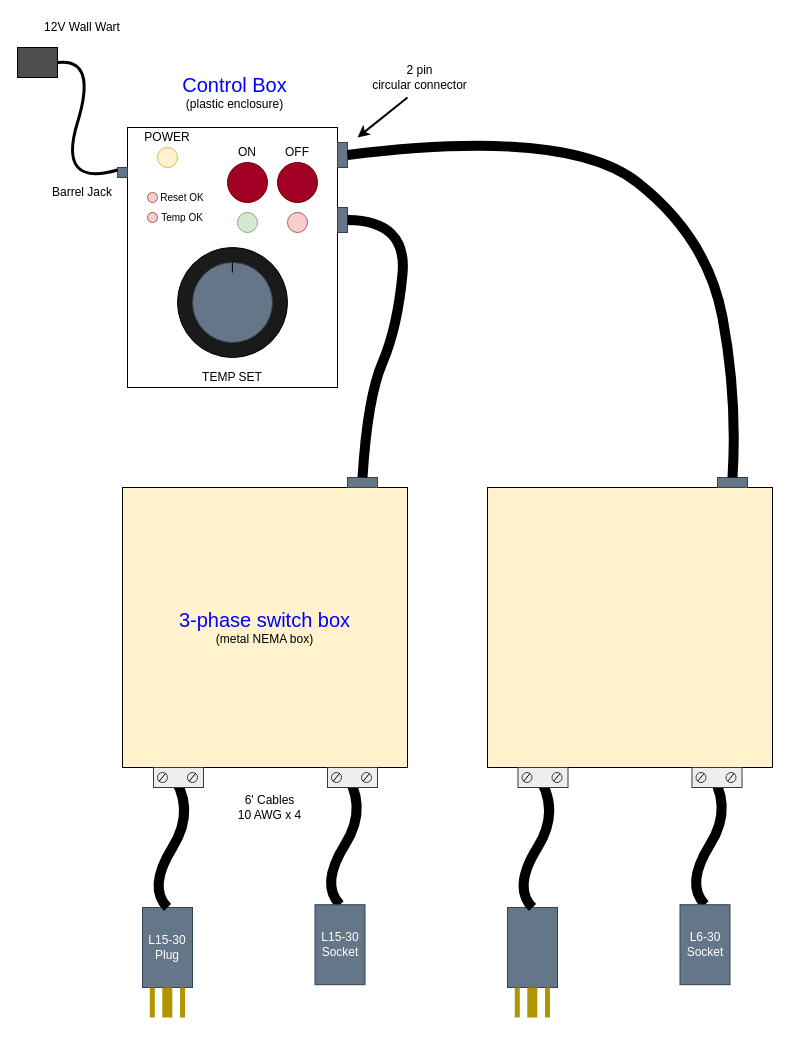
Image size: 790x1040. Some labels were removed from this diagram. Here are the shapes that lost their labels. From the top down, the centre of each, then its label:
(x=629, y=627): 2-phase switch box (metal NEMA box)
(x=532, y=947): L6-30 Plug
